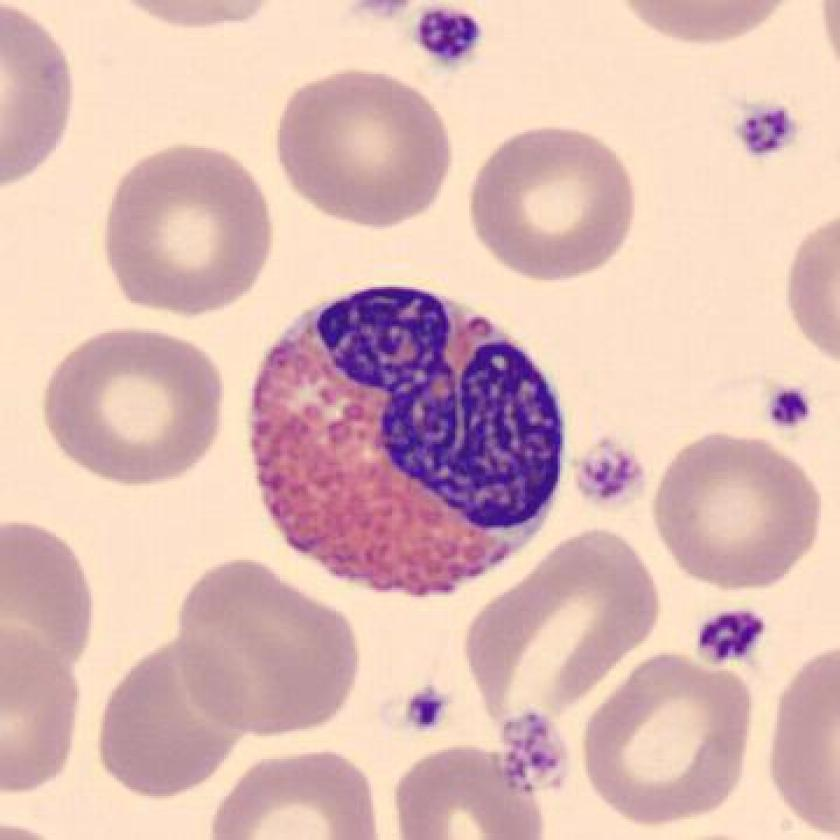eosinophil: (232, 272, 580, 612)
